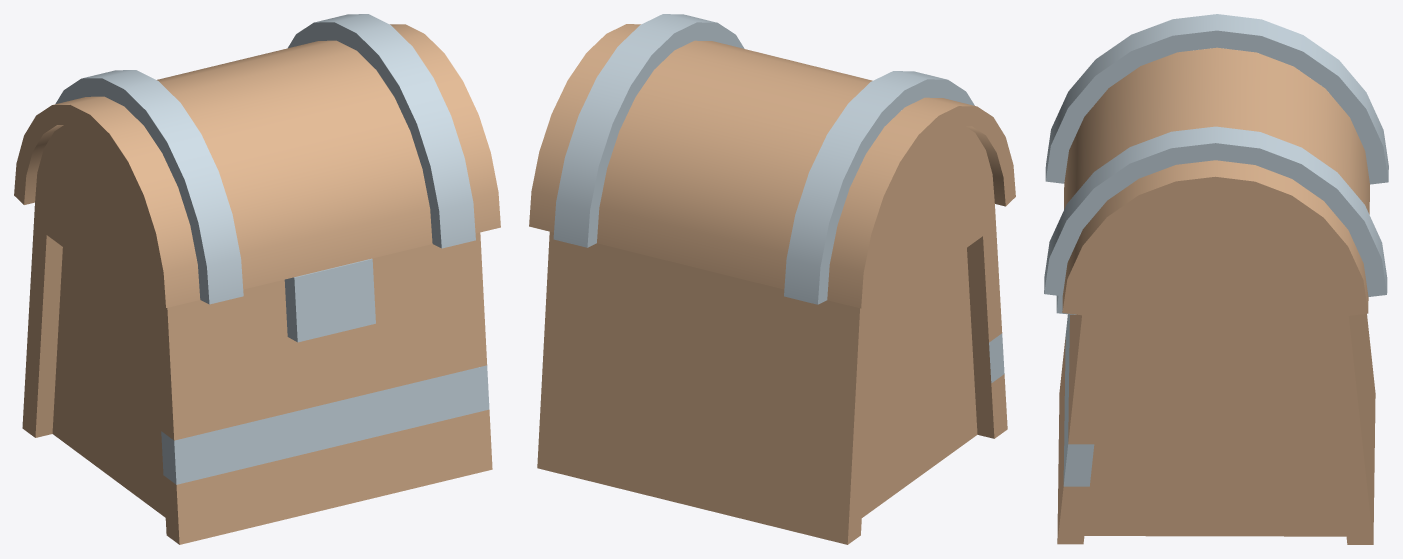
Rendered from chest.glb.
3 views of the same model, side by side, from view 1: azimuth 30°, elevation 25°; view 2: azimuth 150°, elevation 25°; view 3: azimuth 270°, elevation 25° (orthographic).
Parts seen in each view (by area): view 1: Mesh_0; view 2: Mesh_0; view 3: Mesh_0.
Boxes of the visible parts, left/top/right/bottom form: Mesh_0: left=14, top=14, right=500, bottom=544; Mesh_0: left=529, top=14, right=1015, bottom=544; Mesh_0: left=1044, top=14, right=1388, bottom=544.
Bounding box in the file's own units: 0.4918 × 0.5492 × 0.4397.
